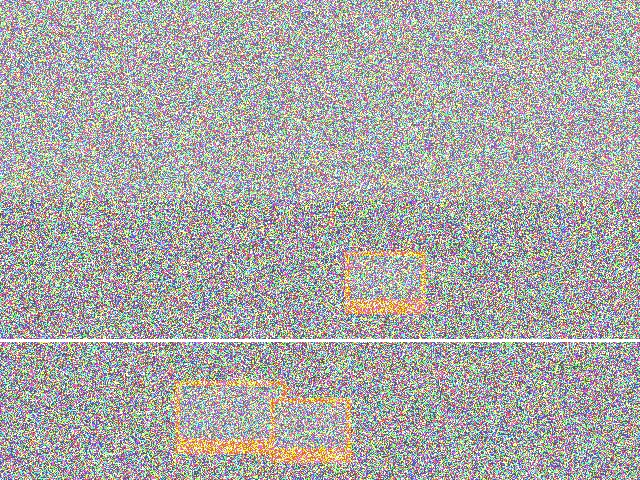motorcycle: (43, 200, 211, 310), (109, 131, 260, 252)
truck: (224, 164, 342, 231)
